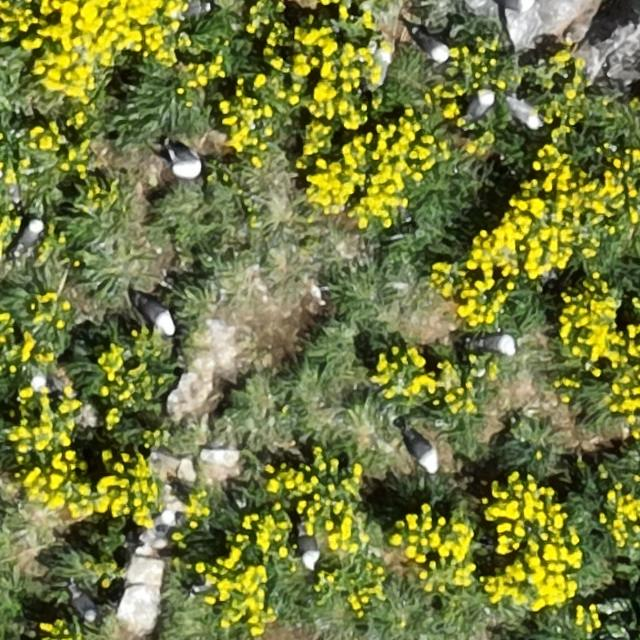umineko: (407, 432, 438, 470), (141, 298, 175, 332), (170, 149, 202, 179), (416, 34, 450, 62), (511, 99, 541, 130), (15, 220, 42, 253), (298, 530, 320, 569), (72, 587, 97, 620), (465, 91, 494, 119), (481, 334, 517, 354)
